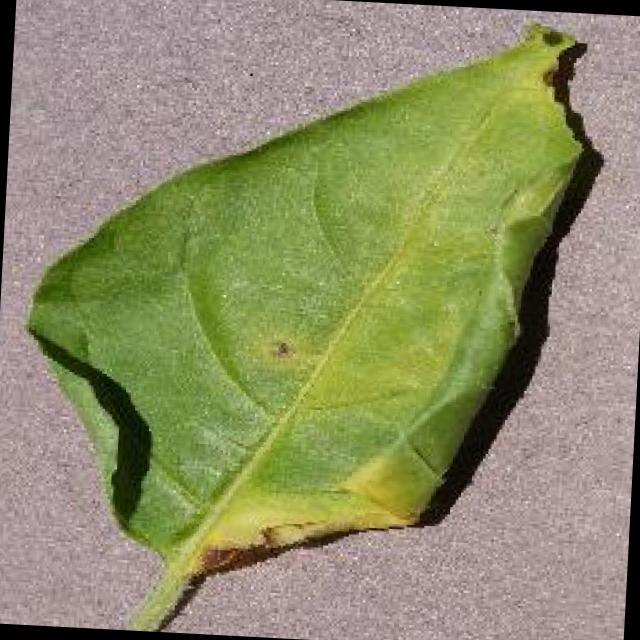Chilli_Bacterial_Spot: (4, 0, 606, 640), (247, 322, 315, 379), (253, 517, 312, 555), (258, 329, 304, 369), (266, 334, 296, 364), (536, 23, 566, 50)
